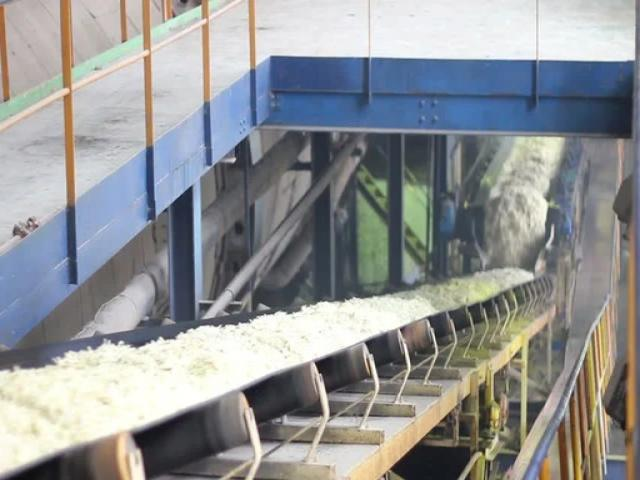conveyor: (0, 266, 559, 479)
